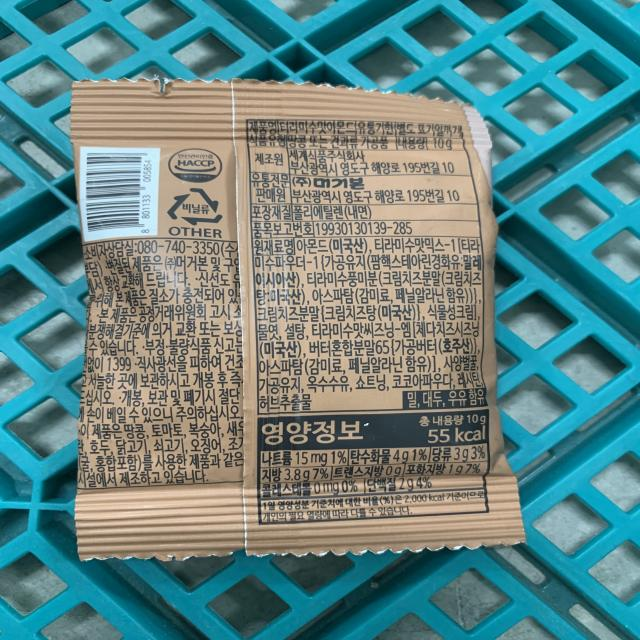object_name: (72, 77, 524, 552)
